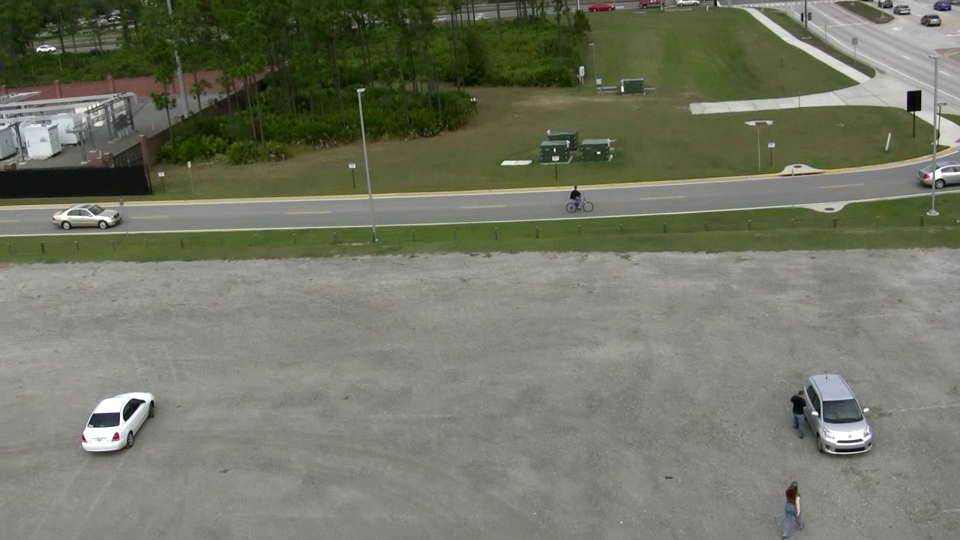vehicle: (801, 373, 874, 456), (80, 391, 156, 453), (52, 204, 121, 230), (917, 161, 960, 189)
